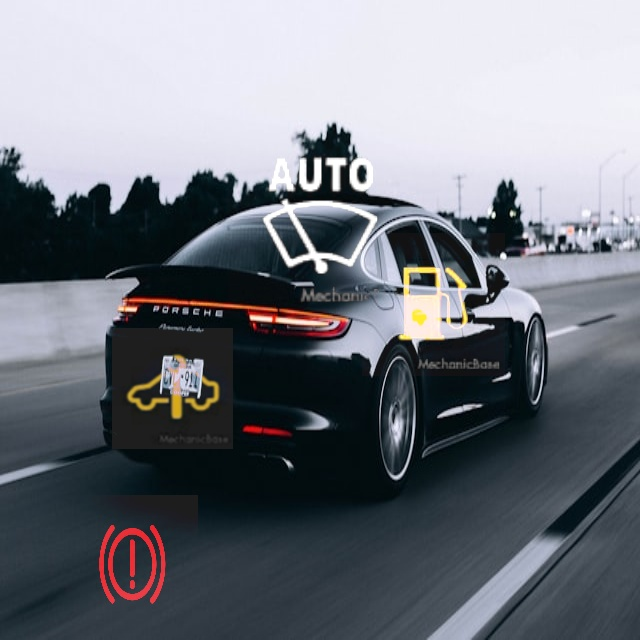symbol: (228, 124, 415, 311), (362, 233, 505, 376), (66, 495, 198, 627), (112, 328, 233, 449)
